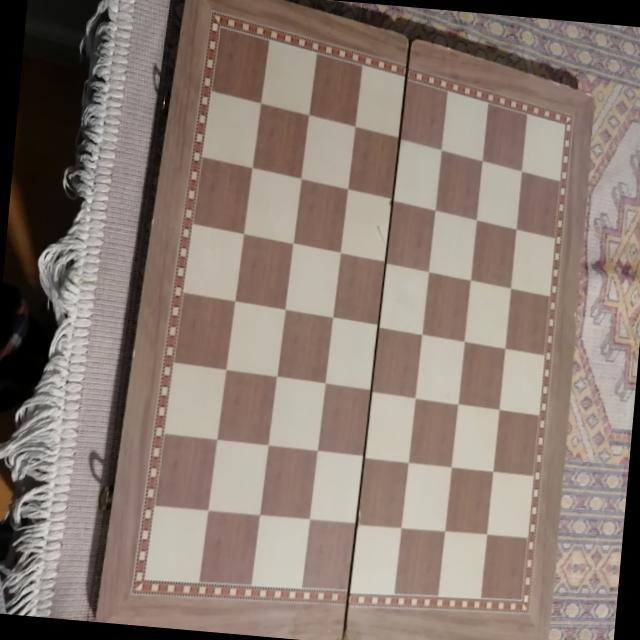corners: (85, 604, 108, 628), (580, 89, 601, 112)
